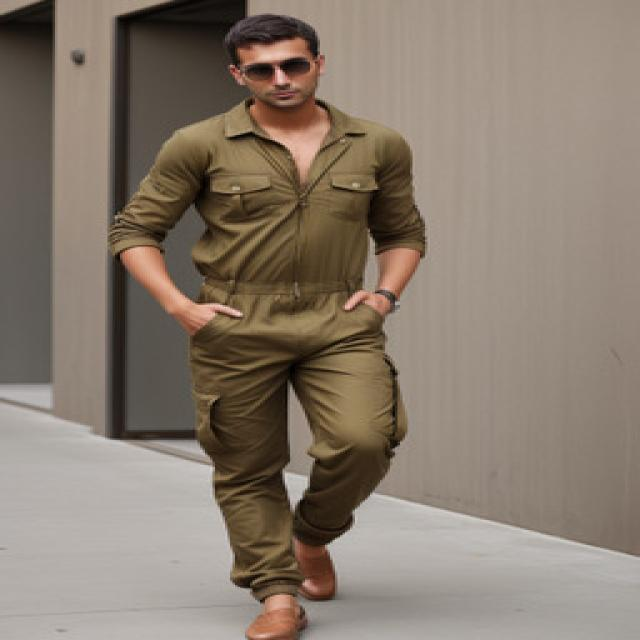Ai human 2: (94, 0, 476, 640)
